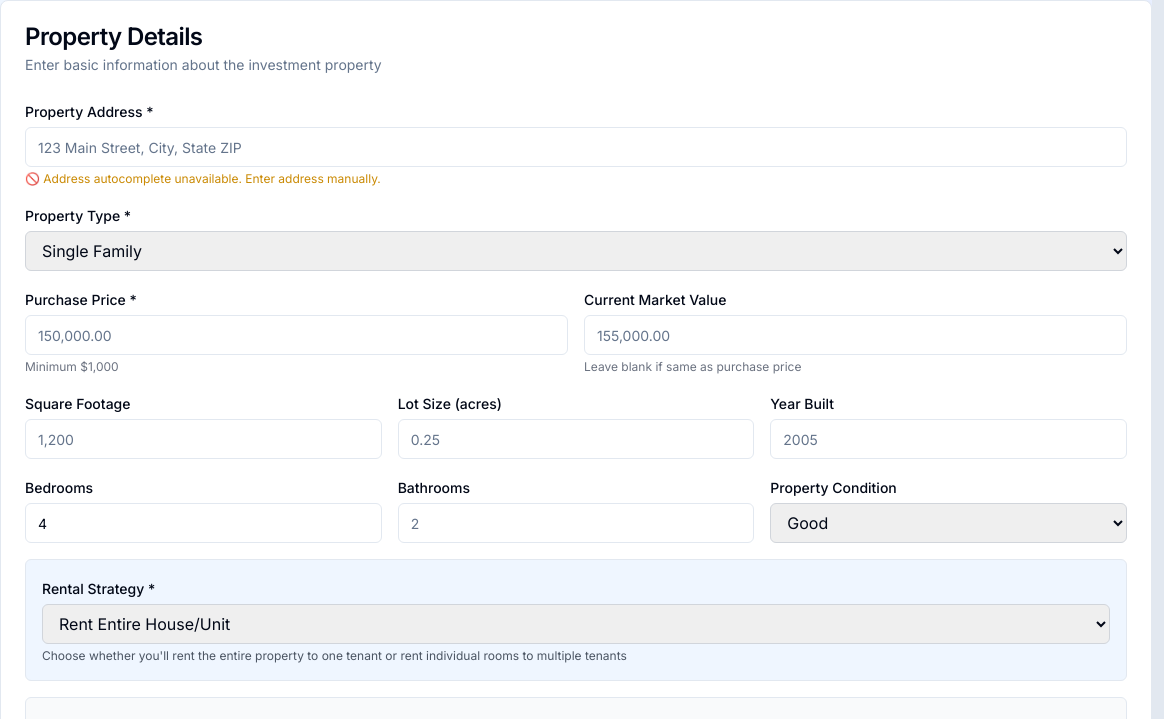
Test: Rental Strategy Feature › PropertyDetailsForm - Rental Strategy Selection › should show room rental controls only when individual-rooms strategy is selected
Check: the field labelled "Rooms to Rent" is not shown
Change to individual-rooms strategy
Select "Rent Individual Rooms" in the dropdown labelled "Rental Strategy *" at x=576, y=624, box top-left (42, 604), bottom-right (1110, 644)
(page scrolled)
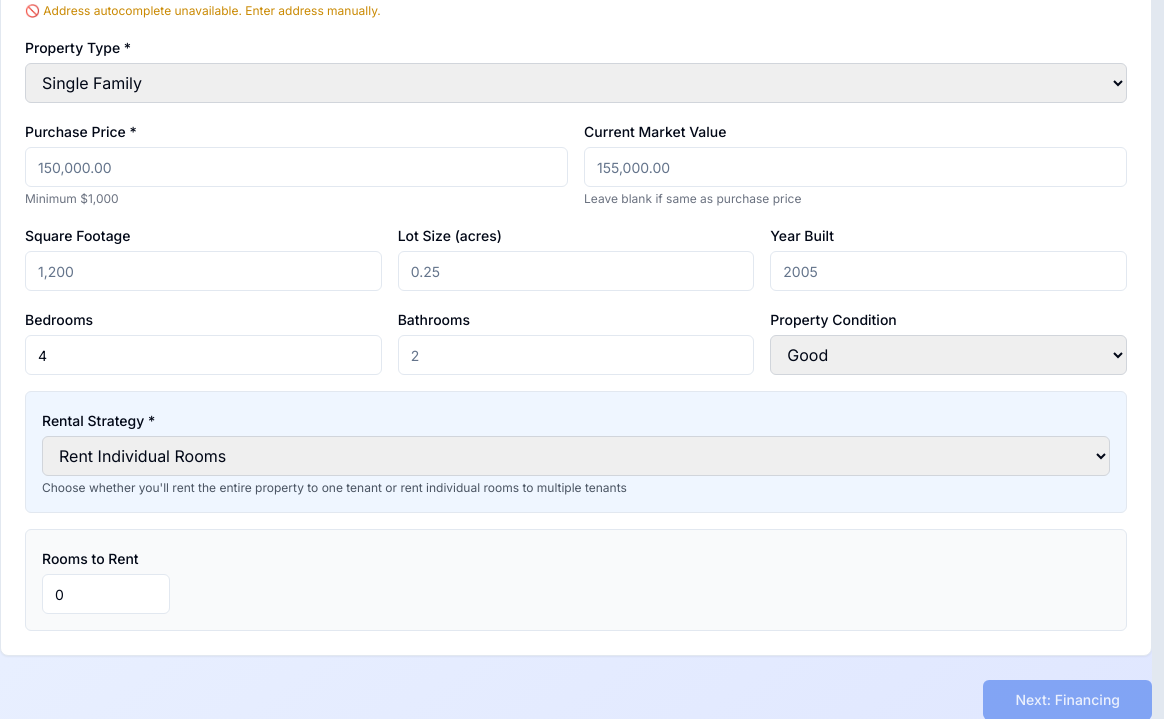
Check: the number field labelled "Rooms to Rent" is shown, box top-left (42, 574), bottom-right (170, 614)
